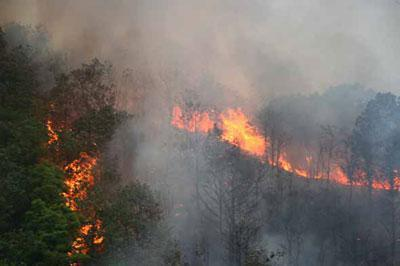fire: (168, 97, 397, 187), (37, 110, 113, 255)
